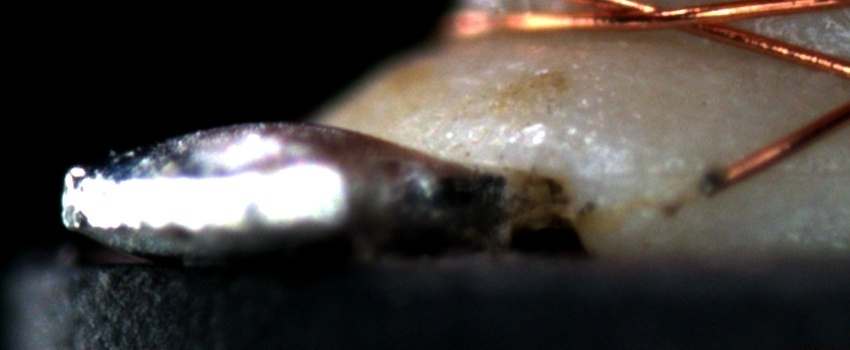DL: (606, 146, 849, 195)
